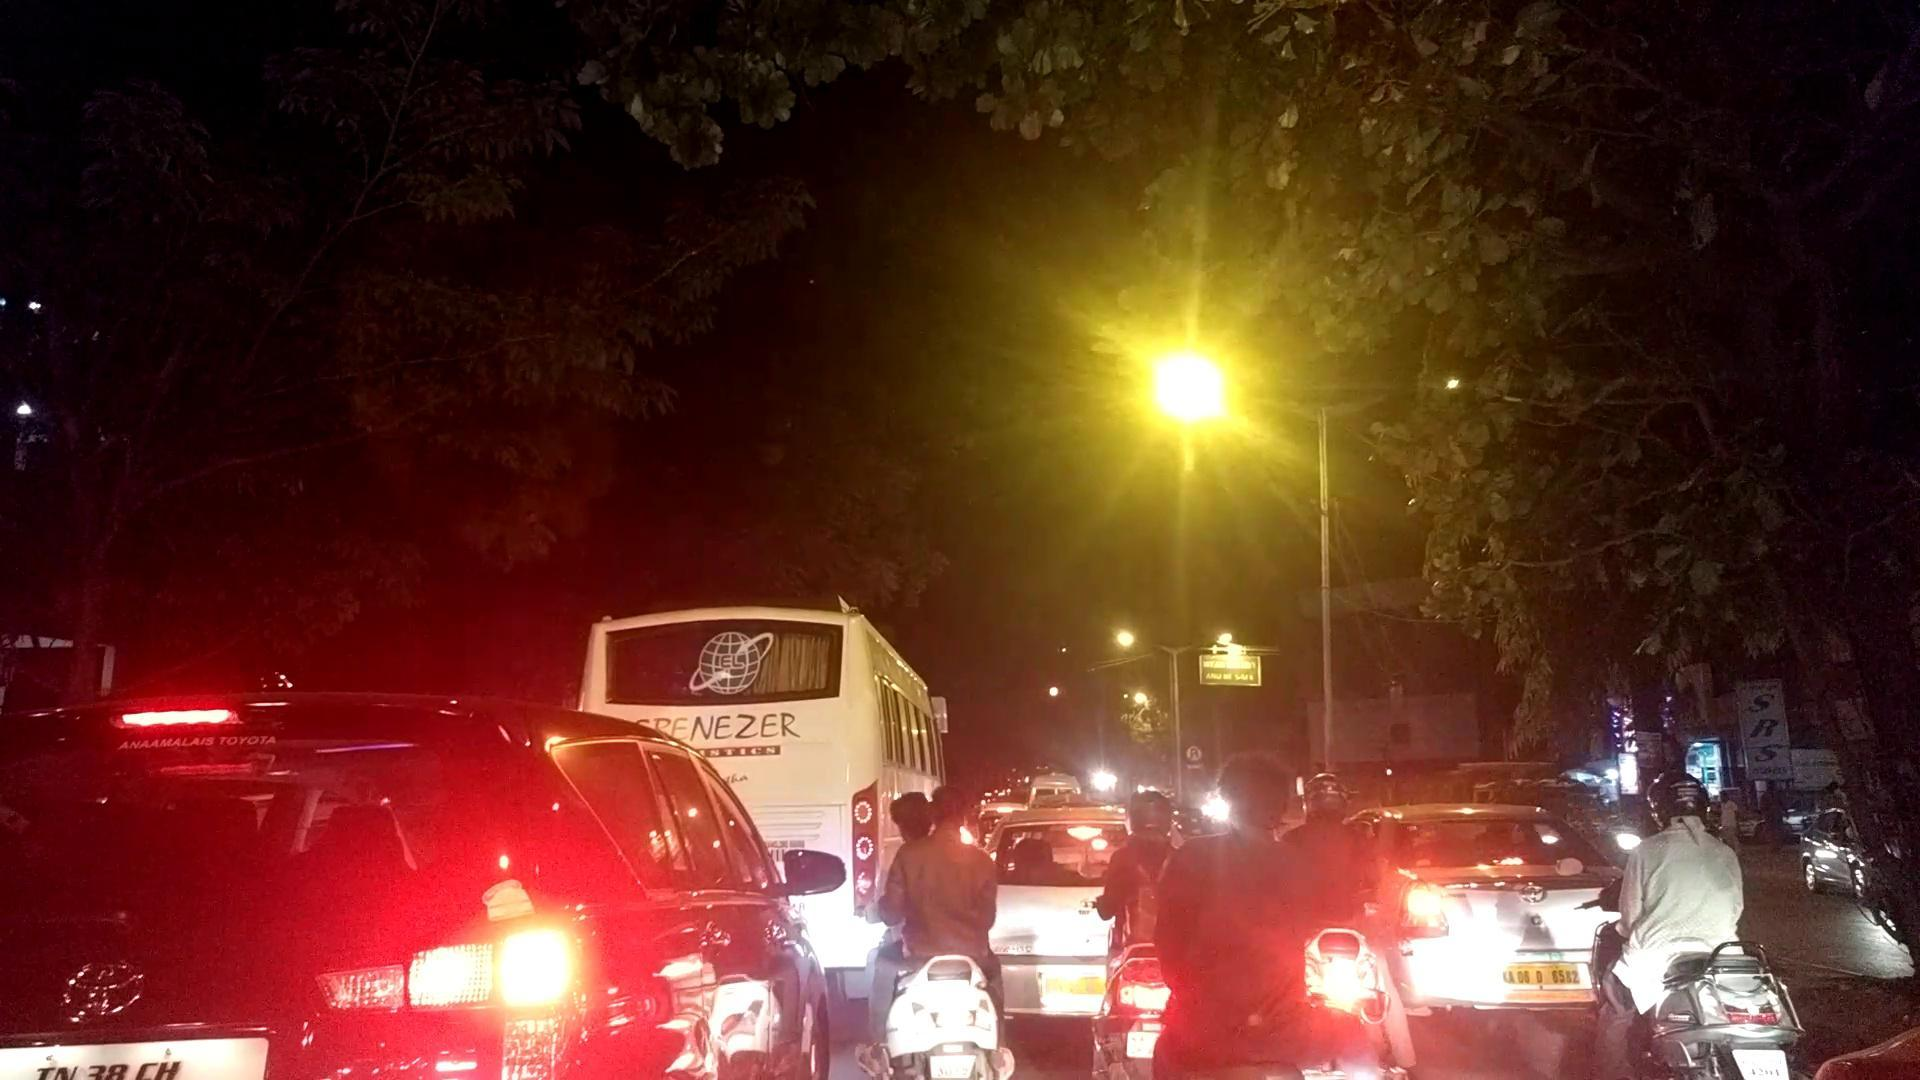on: (50, 42, 1920, 1080)
